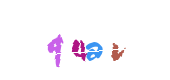4: (45, 0, 125, 80)
A: (54, 0, 134, 80)
Q: (21, 0, 101, 80)
V: (54, 0, 134, 80)
